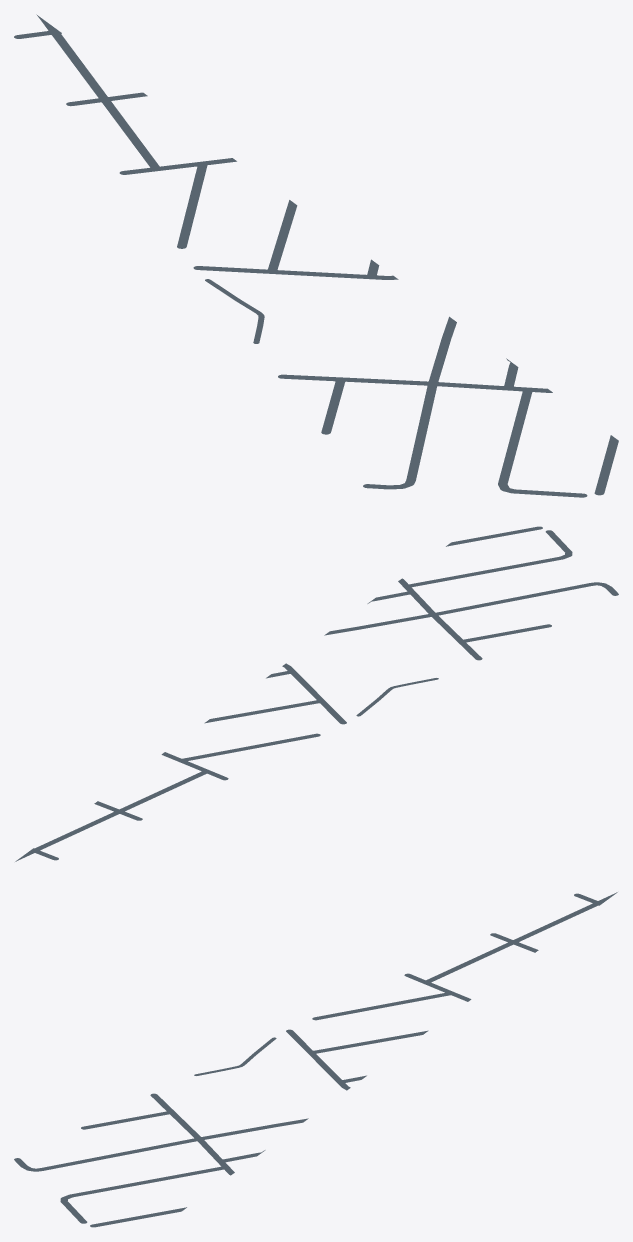
File: SM_MPR_Env_Far_W_Roads.fbx
3 renders of one model, top to bottom at view 1: azimuth 30°, elevation 25°; view 2: azimuth 150°, elevation 25°; view 3: azimuth 330°, elevation 25°, orthographic. The views are drawn at different scales.
Visible parts, largest first — view 1: SM_MPR_Env_Far_W_Roads; view 2: SM_MPR_Env_Far_W_Roads; view 3: SM_MPR_Env_Far_W_Roads.
Part boxes in pixels (x1,y1,x2,y2): SM_MPR_Env_Far_W_Roads: (14, 14, 618, 497); SM_MPR_Env_Far_W_Roads: (15, 526, 618, 861); SM_MPR_Env_Far_W_Roads: (14, 892, 617, 1227).
Size of the model in its own units: 22682 by 104197 by 0.
